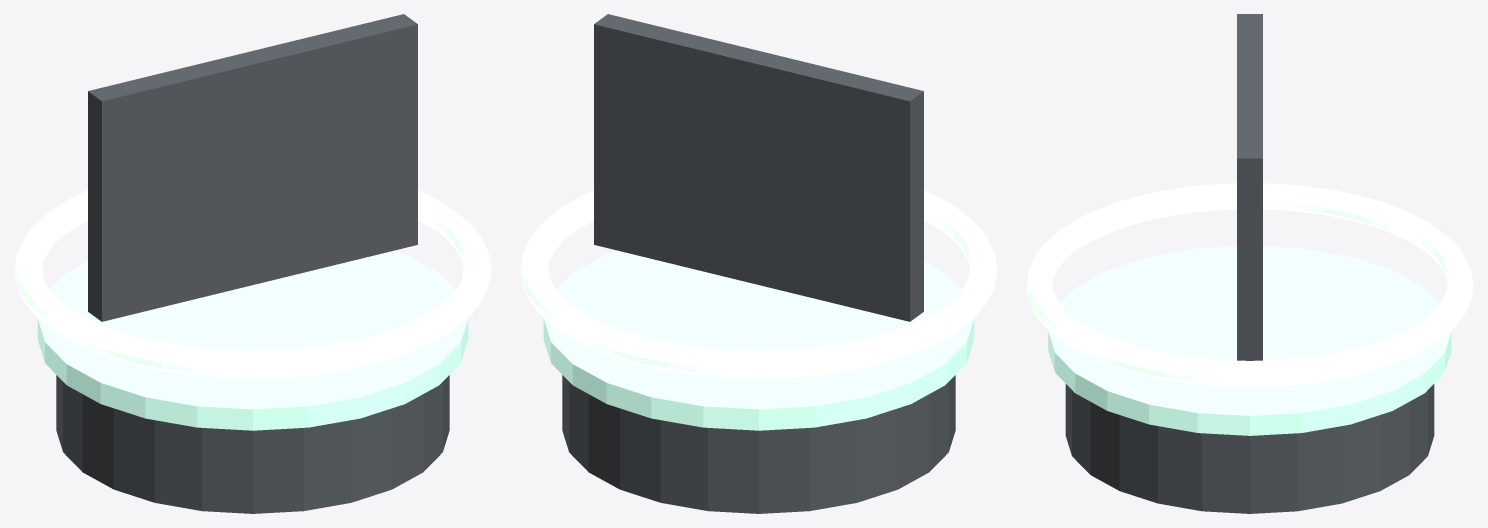
The model's file is pack.agentspace.prop.brand-marker.base.01.glb.
3 views of the same model, side by side, from view 1: azimuth 30°, elevation 25°; view 2: azimuth 150°, elevation 25°; view 3: azimuth 270°, elevation 25° (orthographic). The views are drawn at different scales.
Visible parts, largest first — view 1: brand_marker.logo_frame, brand_marker.lip.accent, brand_marker.pedestal, brand_marker.ring.emit; view 2: brand_marker.logo_frame, brand_marker.lip.accent, brand_marker.pedestal, brand_marker.ring.emit; view 3: brand_marker.lip.accent, brand_marker.pedestal, brand_marker.ring.emit, brand_marker.logo_frame.
Part boxes in pixels (box(x1,y1,x2,y2)): brand_marker.logo_frame: box(88, 14, 417, 321); brand_marker.lip.accent: box(37, 250, 468, 430); brand_marker.pedestal: box(56, 375, 449, 513); brand_marker.ring.emit: box(14, 190, 491, 378); brand_marker.logo_frame: box(594, 14, 923, 321); brand_marker.lip.accent: box(543, 250, 974, 430); brand_marker.pedestal: box(562, 375, 955, 513); brand_marker.ring.emit: box(520, 190, 997, 378); brand_marker.lip.accent: box(1048, 246, 1451, 435); brand_marker.pedestal: box(1065, 384, 1434, 513); brand_marker.ring.emit: box(1026, 183, 1473, 386); brand_marker.logo_frame: box(1237, 14, 1262, 360).
Bounding box in the file's own units: 1.02 × 0.88 × 1.02.
